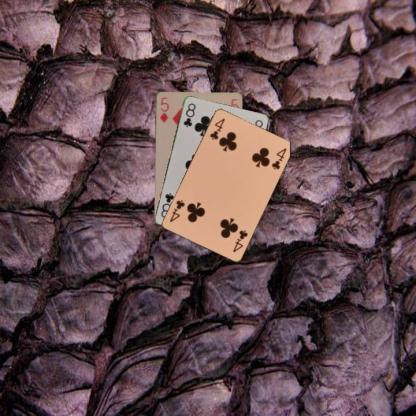4c: (230, 227, 249, 253), (207, 116, 226, 141)
5d: (157, 95, 170, 124)
8c: (181, 101, 196, 128)
